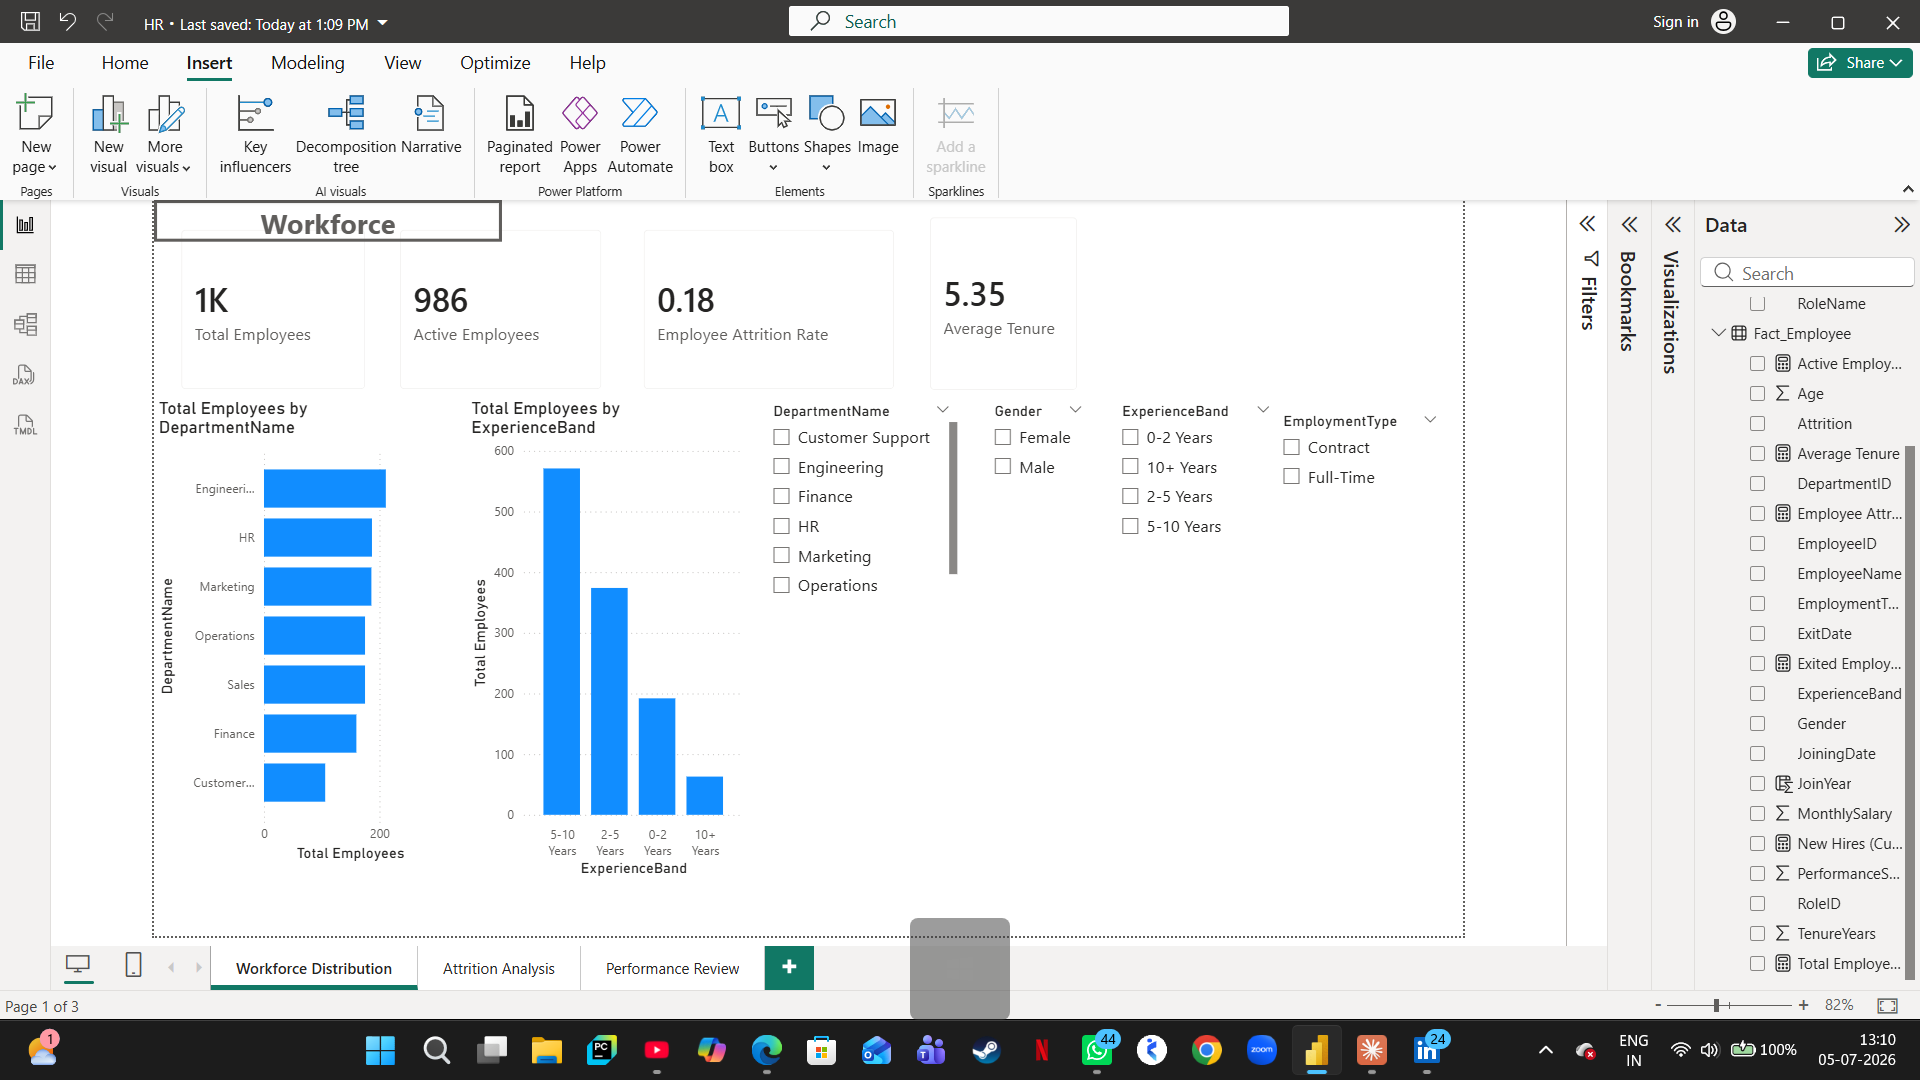

The dashboard page shown, as its layout file describes it:
{"tool":"powerbi","page":{"name":"Workforce Distribution","canvas":[1280,720],"ordinal":0},"visuals":[{"type":"cardVisual","fields":{"Data":["Fact_Employee.Total Employees"]},"box":[9.6,12.3,214.1,190.7],"z":0},{"type":"cardVisual","fields":{"Data":["Fact_Employee.Active Employees"]},"box":[223.7,12.3,231.9,190.7],"z":1000},{"type":"cardVisual","fields":{"Data":["Fact_Employee.Employee Attrition Rate"]},"box":[462.4,12.3,279.9,190.7],"z":2000},{"type":"cardVisual","fields":{"Data":["Fact_Employee.Average Tenure"]},"box":[742.4,0,178.4,203.1],"z":3000},{"type":"clusteredBarChart","fields":{"Category":["Dim_Department.DepartmentName"],"Y":["Fact_Employee.Total Employees"]},"box":[0,193.2,292.3,458.6],"z":4000},{"type":"clusteredColumnChart","fields":{"Category":["Fact_Employee.ExperienceBand"],"Y":["Fact_Employee.Total Employees"]},"box":[305.7,193.2,276.4,473.2],"z":4001},{"type":"slicer","fields":{"Values":["Dim_Department.DepartmentName"]},"box":[592.8,193.5,197.6,203.1],"z":4002},{"type":"slicer","fields":{"Values":["Fact_Employee.ExperienceBand"]},"box":[934.5,193.5,170.2,203.1],"z":4003},{"type":"slicer","fields":{"Values":["Fact_Employee.Gender"]},"box":[809.6,193.5,111.1,203.1],"z":4004},{"type":"slicer","fields":{"Values":["Fact_Employee.EmploymentType"]},"box":[1092.3,203.1,175.6,91.9],"z":4005},{"type":"actionButton","box":[0,0,340.4,40.9],"z":4006}]}

Visuals, with their boxes on the page's 1280x720 design canvas (x1, y1, x2, y2). These are canvas units, not pixel positions in the 1920x1080 screenshot, which may show the page scaled, cropped or inside an application window:
cardVisual - Fact_Employee.Total Employees: 10:12:224:203
cardVisual - Fact_Employee.Active Employees: 224:12:456:203
cardVisual - Fact_Employee.Employee Attrition Rate: 462:12:742:203
cardVisual - Fact_Employee.Average Tenure: 742:0:921:203
clusteredBarChart - Dim_Department.DepartmentName x Fact_Employee.Total Employees: 0:193:292:652
clusteredColumnChart - Fact_Employee.ExperienceBand x Fact_Employee.Total Employees: 306:193:582:666
slicer - Dim_Department.DepartmentName: 593:194:790:397
slicer - Fact_Employee.ExperienceBand: 934:194:1105:397
slicer - Fact_Employee.Gender: 810:194:921:397
slicer - Fact_Employee.EmploymentType: 1092:203:1268:295
actionButton: 0:0:340:41
